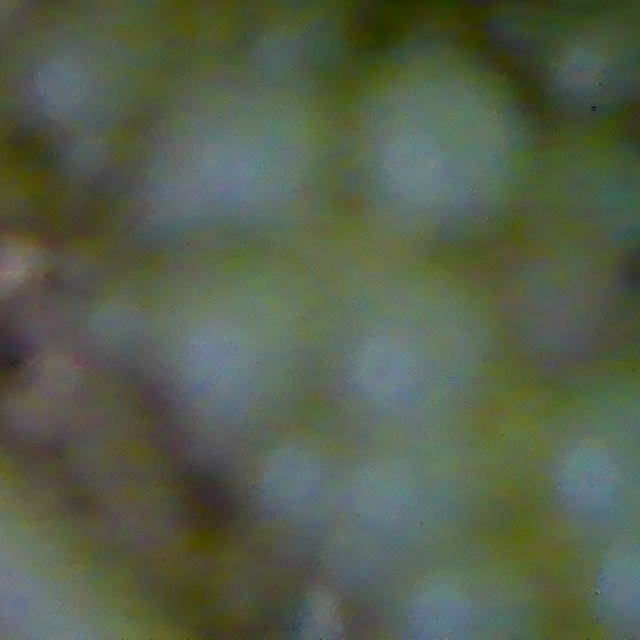SeaGrape: (331, 51, 538, 249), (130, 241, 318, 448), (312, 261, 515, 442), (133, 86, 334, 244), (525, 366, 640, 564), (244, 433, 343, 540), (544, 14, 640, 113)
